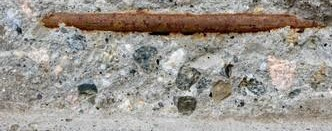Exposed reinforcement: (42, 12, 326, 34)
Spalling: (1, 1, 332, 131)
